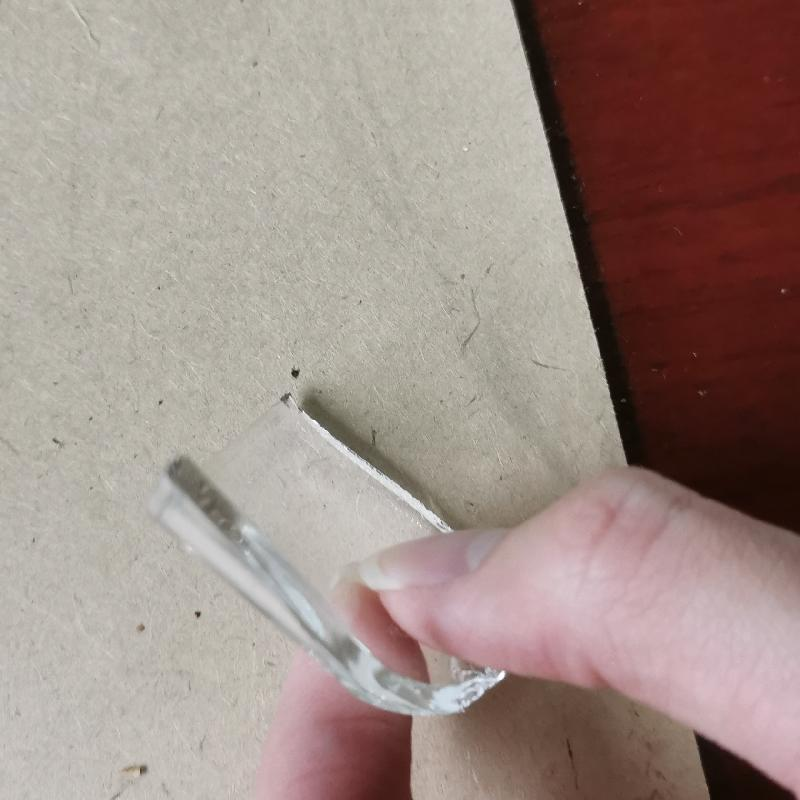glass: (145, 395, 540, 716)
